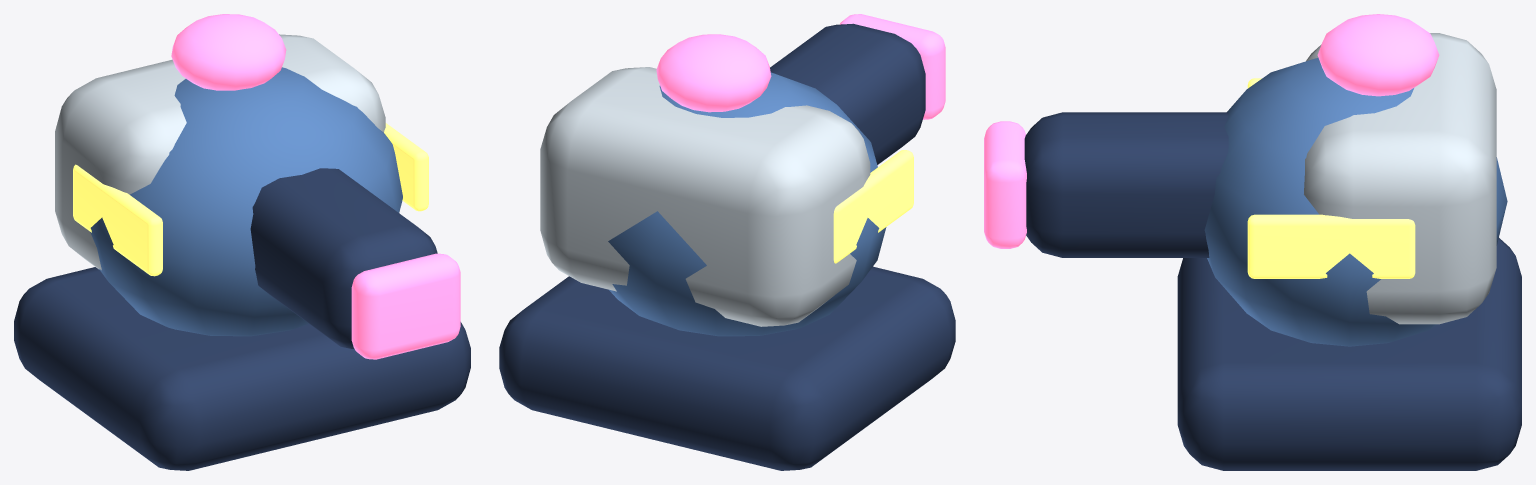
The model's file is cannon.glb.
3 views of the same model, side by side, from view 1: azimuth 30°, elevation 25°; view 2: azimuth 150°, elevation 25°; view 3: azimuth 270°, elevation 25° (orthographic). The views are drawn at different scales.
Visible parts, largest first — view 1: CannonBase, Pivot, Barrel, Armor, Muzzle, Warning lamp, Side light, Side light.001; view 2: CannonBase, Armor, Pivot, Barrel, Warning lamp, Side light, Muzzle; view 3: CannonBase, Armor, Pivot, Barrel, Side light.001, Warning lamp, Muzzle.
Part boxes in pixels (<box>): CannonBase: <box>14,267,470,470</box>; Pivot: <box>90,67,402,336</box>; Barrel: <box>250,168,437,348</box>; Armor: <box>55,34,385,270</box>; Muzzle: <box>351,253,460,359</box>; Warning lamp: <box>171,14,286,90</box>; Side light: <box>73,164,162,276</box>; Side light.001: <box>384,123,428,211</box>; CannonBase: <box>499,266,955,470</box>; Armor: <box>540,67,870,326</box>; Pivot: <box>608,72,886,336</box>; Barrel: <box>770,23,925,164</box>; Warning lamp: <box>656,34,771,112</box>; Side light: <box>833,150,913,263</box>; Muzzle: <box>840,14,945,119</box>; CannonBase: <box>1177,238,1521,470</box>; Armor: <box>1304,33,1496,324</box>; Pivot: <box>1204,57,1507,346</box>; Barrel: <box>1024,112,1228,257</box>; Side light.001: <box>1247,214,1415,278</box>; Warning lamp: <box>1317,14,1439,96</box>; Muzzle: <box>984,121,1026,248</box>.
Size of the model in its own units: 1.1 by 1.17 by 1.5.
